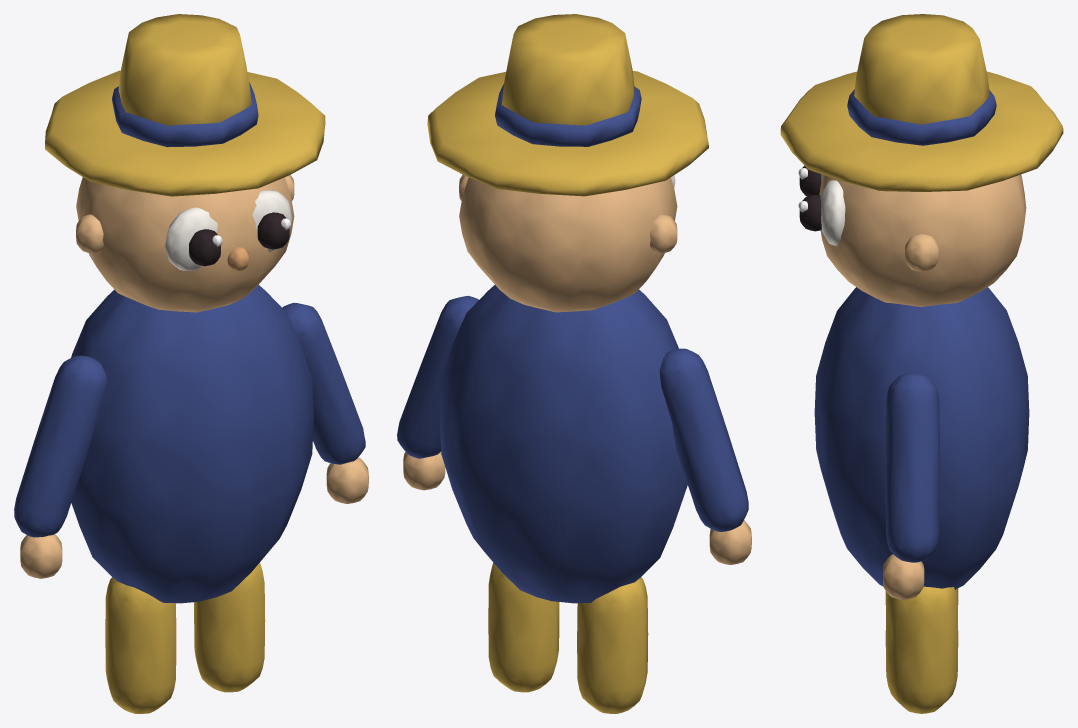
Rendered from npc_fenn.glb.
3 views of the same model, side by side, from view 1: azimuth 30°, elevation 25°; view 2: azimuth 150°, elevation 25°; view 3: azimuth 270°, elevation 25° (orthographic).
Visible parts, largest first — view 1: npc_fenn_part_2, npc_fenn_part_17, npc_fenn_part_7, npc_fenn_part_18, npc_fenn_part_3, npc_fenn_part_0, npc_fenn_part_1, npc_fenn_part_5, npc_fenn_part_19, npc_fenn_part_8, npc_fenn_part_4, npc_fenn_part_6 (+4 smaller); view 2: npc_fenn_part_2, npc_fenn_part_7, npc_fenn_part_17, npc_fenn_part_18, npc_fenn_part_3, npc_fenn_part_0, npc_fenn_part_1, npc_fenn_part_5, npc_fenn_part_19, npc_fenn_part_4, npc_fenn_part_6, npc_fenn_part_15; view 3: npc_fenn_part_2, npc_fenn_part_7, npc_fenn_part_17, npc_fenn_part_18, npc_fenn_part_5, npc_fenn_part_1, npc_fenn_part_19, npc_fenn_part_6, npc_fenn_part_11, npc_fenn_part_16, npc_fenn_part_12, npc_fenn_part_9.
Part boxes in pixels (x1=…): npc_fenn_part_2: x1=71, y1=284, x2=313, y2=603; npc_fenn_part_17: x1=45, y1=70, x2=325, y2=196; npc_fenn_part_7: x1=76, y1=177, x2=294, y2=312; npc_fenn_part_18: x1=118, y1=14, x2=251, y2=125; npc_fenn_part_3: x1=14, y1=355, x2=106, y2=537; npc_fenn_part_0: x1=105, y1=577, x2=176, y2=713; npc_fenn_part_1: x1=194, y1=562, x2=265, y2=692; npc_fenn_part_5: x1=282, y1=302, x2=365, y2=464; npc_fenn_part_19: x1=112, y1=82, x2=258, y2=147; npc_fenn_part_8: x1=165, y1=207, x2=217, y2=270; npc_fenn_part_4: x1=20, y1=534, x2=62, y2=578; npc_fenn_part_6: x1=326, y1=457, x2=368, y2=503; npc_fenn_part_2: x1=439, y1=285, x2=687, y2=603; npc_fenn_part_7: x1=459, y1=177, x2=677, y2=312; npc_fenn_part_17: x1=427, y1=71, x2=708, y2=196; npc_fenn_part_18: x1=501, y1=14, x2=634, y2=125; npc_fenn_part_3: x1=659, y1=348, x2=748, y2=531; npc_fenn_part_0: x1=577, y1=577, x2=648, y2=713; npc_fenn_part_1: x1=488, y1=563, x2=559, y2=692; npc_fenn_part_5: x1=397, y1=295, x2=478, y2=458; npc_fenn_part_19: x1=495, y1=84, x2=641, y2=146; npc_fenn_part_4: x1=709, y1=520, x2=751, y2=564; npc_fenn_part_6: x1=403, y1=451, x2=445, y2=490; npc_fenn_part_15: x1=649, y1=214, x2=677, y2=253; npc_fenn_part_2: x1=814, y1=287, x2=1029, y2=589; npc_fenn_part_7: x1=819, y1=174, x2=1026, y2=306; npc_fenn_part_17: x1=780, y1=71, x2=1063, y2=191; npc_fenn_part_18: x1=854, y1=14, x2=989, y2=124; npc_fenn_part_5: x1=885, y1=372, x2=939, y2=562; npc_fenn_part_1: x1=885, y1=586, x2=958, y2=713; npc_fenn_part_19: x1=847, y1=89, x2=996, y2=145; npc_fenn_part_6: x1=883, y1=554, x2=924, y2=599; npc_fenn_part_11: x1=820, y1=180, x2=845, y2=245; npc_fenn_part_16: x1=905, y1=234, x2=938, y2=271; npc_fenn_part_12: x1=799, y1=194, x2=821, y2=231; npc_fenn_part_9: x1=799, y1=165, x2=821, y2=196.
Bounding box in the file's own units: 0.8627 × 1.58 × 0.6173.
